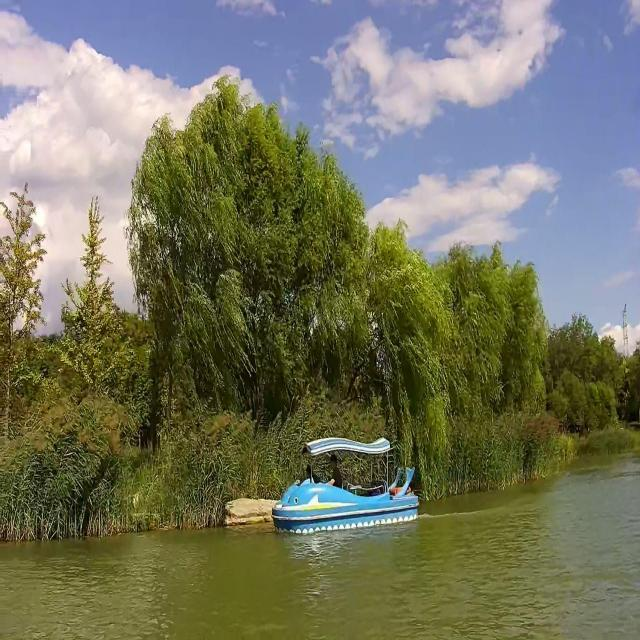CIV_Ship: (271, 436, 417, 533)
